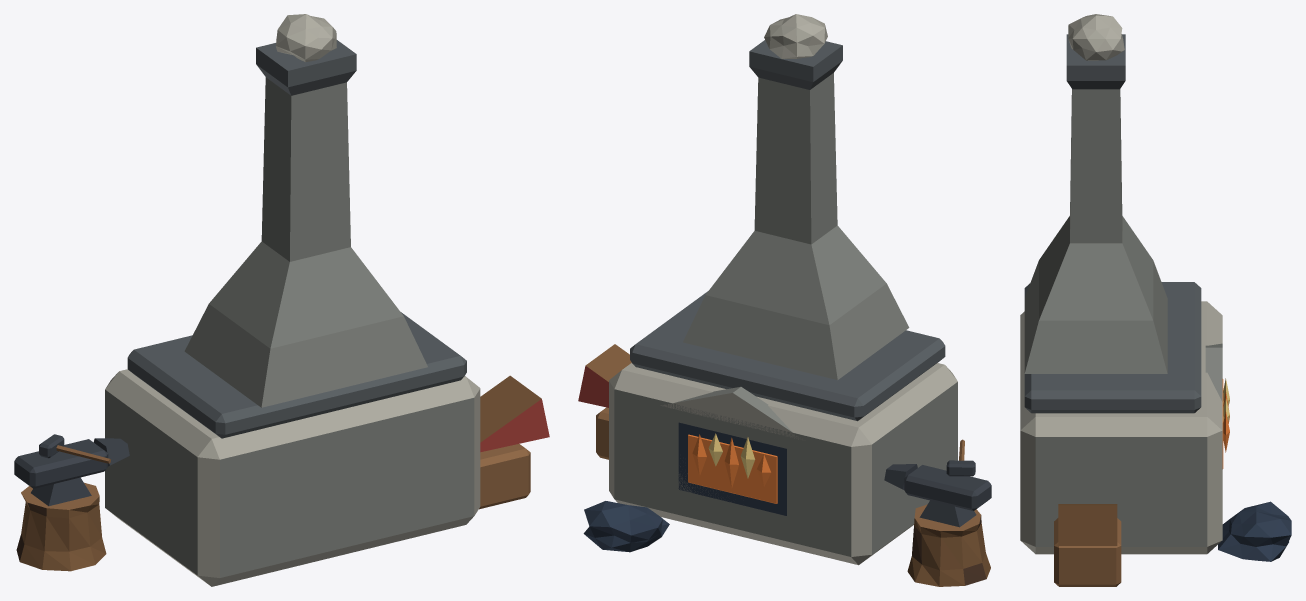
The model's file is Forge.obj.
3 renders of one model, left to right at view 1: azimuth 30°, elevation 25°; view 2: azimuth 150°, elevation 25°; view 3: azimuth 270°, elevation 25°, orthographic. The views are drawn at different scales.
Size of the model in its own units: 5.97 by 6.5 by 3.22.
